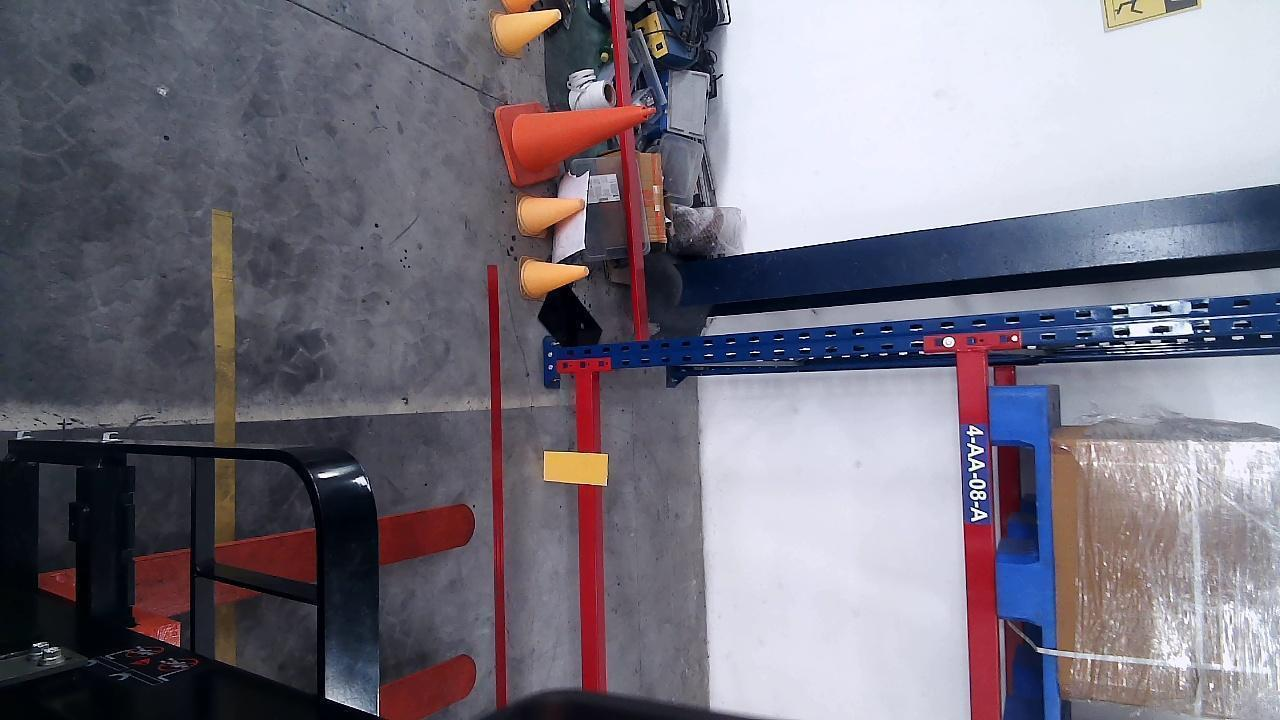red_line: (487, 264, 508, 705)
yellow_line: (210, 210, 236, 541)
